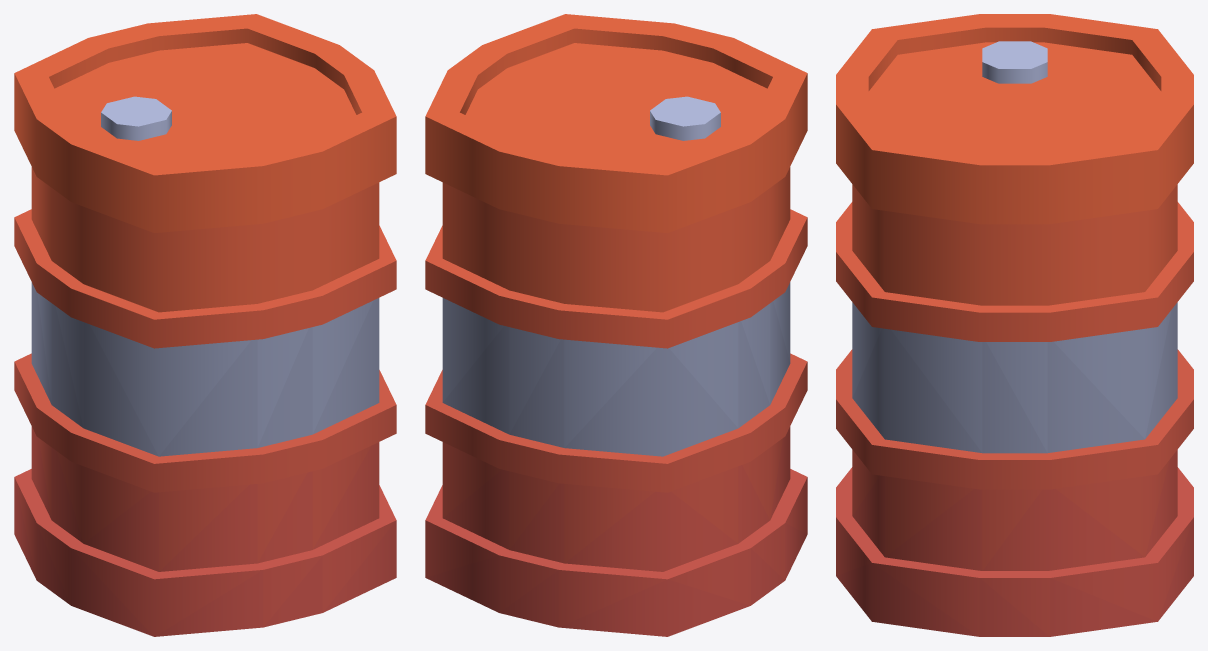
The model's file is barrel.glb.
The picture shows the model from 3 angles, left to right: view 1: azimuth 30°, elevation 25°; view 2: azimuth 150°, elevation 25°; view 3: azimuth 270°, elevation 25°; orthographic projection. The views are drawn at different scales.
Visible parts, largest first — view 1: cfa6a41, cd9584c, cf36644, c9ba2c2, ca0a8c9, cdd5b4a, cd5564d, ce15d49, cec6246, cef6445, ce45e48, cbfc8f0 (+1 smaller); view 2: cfa6a41, cd9584c, cf36644, c9ba2c2, ca0a8c9, cdd5b4a, cd5564d, ce15d49, cec6246, cef6445, ce45e48, cbfc8f0 (+1 smaller); view 3: cfa6a41, cd9584c, cf36644, c9ba2c2, ca0a8c9, cdd5b4a, cd5564d, cec6246, ce15d49, cef6445, ce45e48, cbfc8f0 (+1 smaller).
Boxes of the visible parts, x1=… form: cfa6a41: x1=14, y1=14, x2=396, y2=232; cd9584c: x1=14, y1=426, x2=396, y2=636; cf36644: x1=31, y1=167, x2=379, y2=312; c9ba2c2: x1=31, y1=282, x2=379, y2=456; ca0a8c9: x1=37, y1=293, x2=373, y2=456; cdd5b4a: x1=39, y1=438, x2=370, y2=571; cd5564d: x1=14, y1=477, x2=396, y2=636; ce15d49: x1=14, y1=362, x2=396, y2=492; cec6246: x1=14, y1=217, x2=396, y2=348; cef6445: x1=14, y1=209, x2=396, y2=319; ce45e48: x1=14, y1=353, x2=396, y2=463; cbfc8f0: x1=101, y1=96, x2=171, y2=126; cfa6a41: x1=425, y1=14, x2=807, y2=232; cd9584c: x1=425, y1=426, x2=807, y2=627; cf36644: x1=442, y1=167, x2=790, y2=312; c9ba2c2: x1=443, y1=301, x2=790, y2=456; ca0a8c9: x1=442, y1=282, x2=790, y2=447; cdd5b4a: x1=442, y1=438, x2=782, y2=563; cd5564d: x1=426, y1=523, x2=807, y2=636; ce15d49: x1=425, y1=362, x2=807, y2=492; cec6246: x1=425, y1=217, x2=807, y2=348; cef6445: x1=425, y1=209, x2=807, y2=319; ce45e48: x1=425, y1=353, x2=807, y2=463; cbfc8f0: x1=650, y1=96, x2=720, y2=126; cfa6a41: x1=836, y1=14, x2=1193, y2=224; cd9584c: x1=836, y1=450, x2=1193, y2=636; cf36644: x1=852, y1=184, x2=1177, y2=305; c9ba2c2: x1=852, y1=302, x2=1177, y2=453; ca0a8c9: x1=852, y1=302, x2=1171, y2=452; cdd5b4a: x1=852, y1=450, x2=1169, y2=570; cd5564d: x1=836, y1=518, x2=1193, y2=636; cec6246: x1=836, y1=252, x2=1193, y2=341; ce15d49: x1=836, y1=399, x2=1193, y2=489; cef6445: x1=836, y1=202, x2=1193, y2=312; ce45e48: x1=836, y1=349, x2=1193, y2=459; cbfc8f0: x1=982, y1=41, x2=1047, y2=68.
Size of the model in its own units: 0.2365 by 0.344 by 0.2365.
